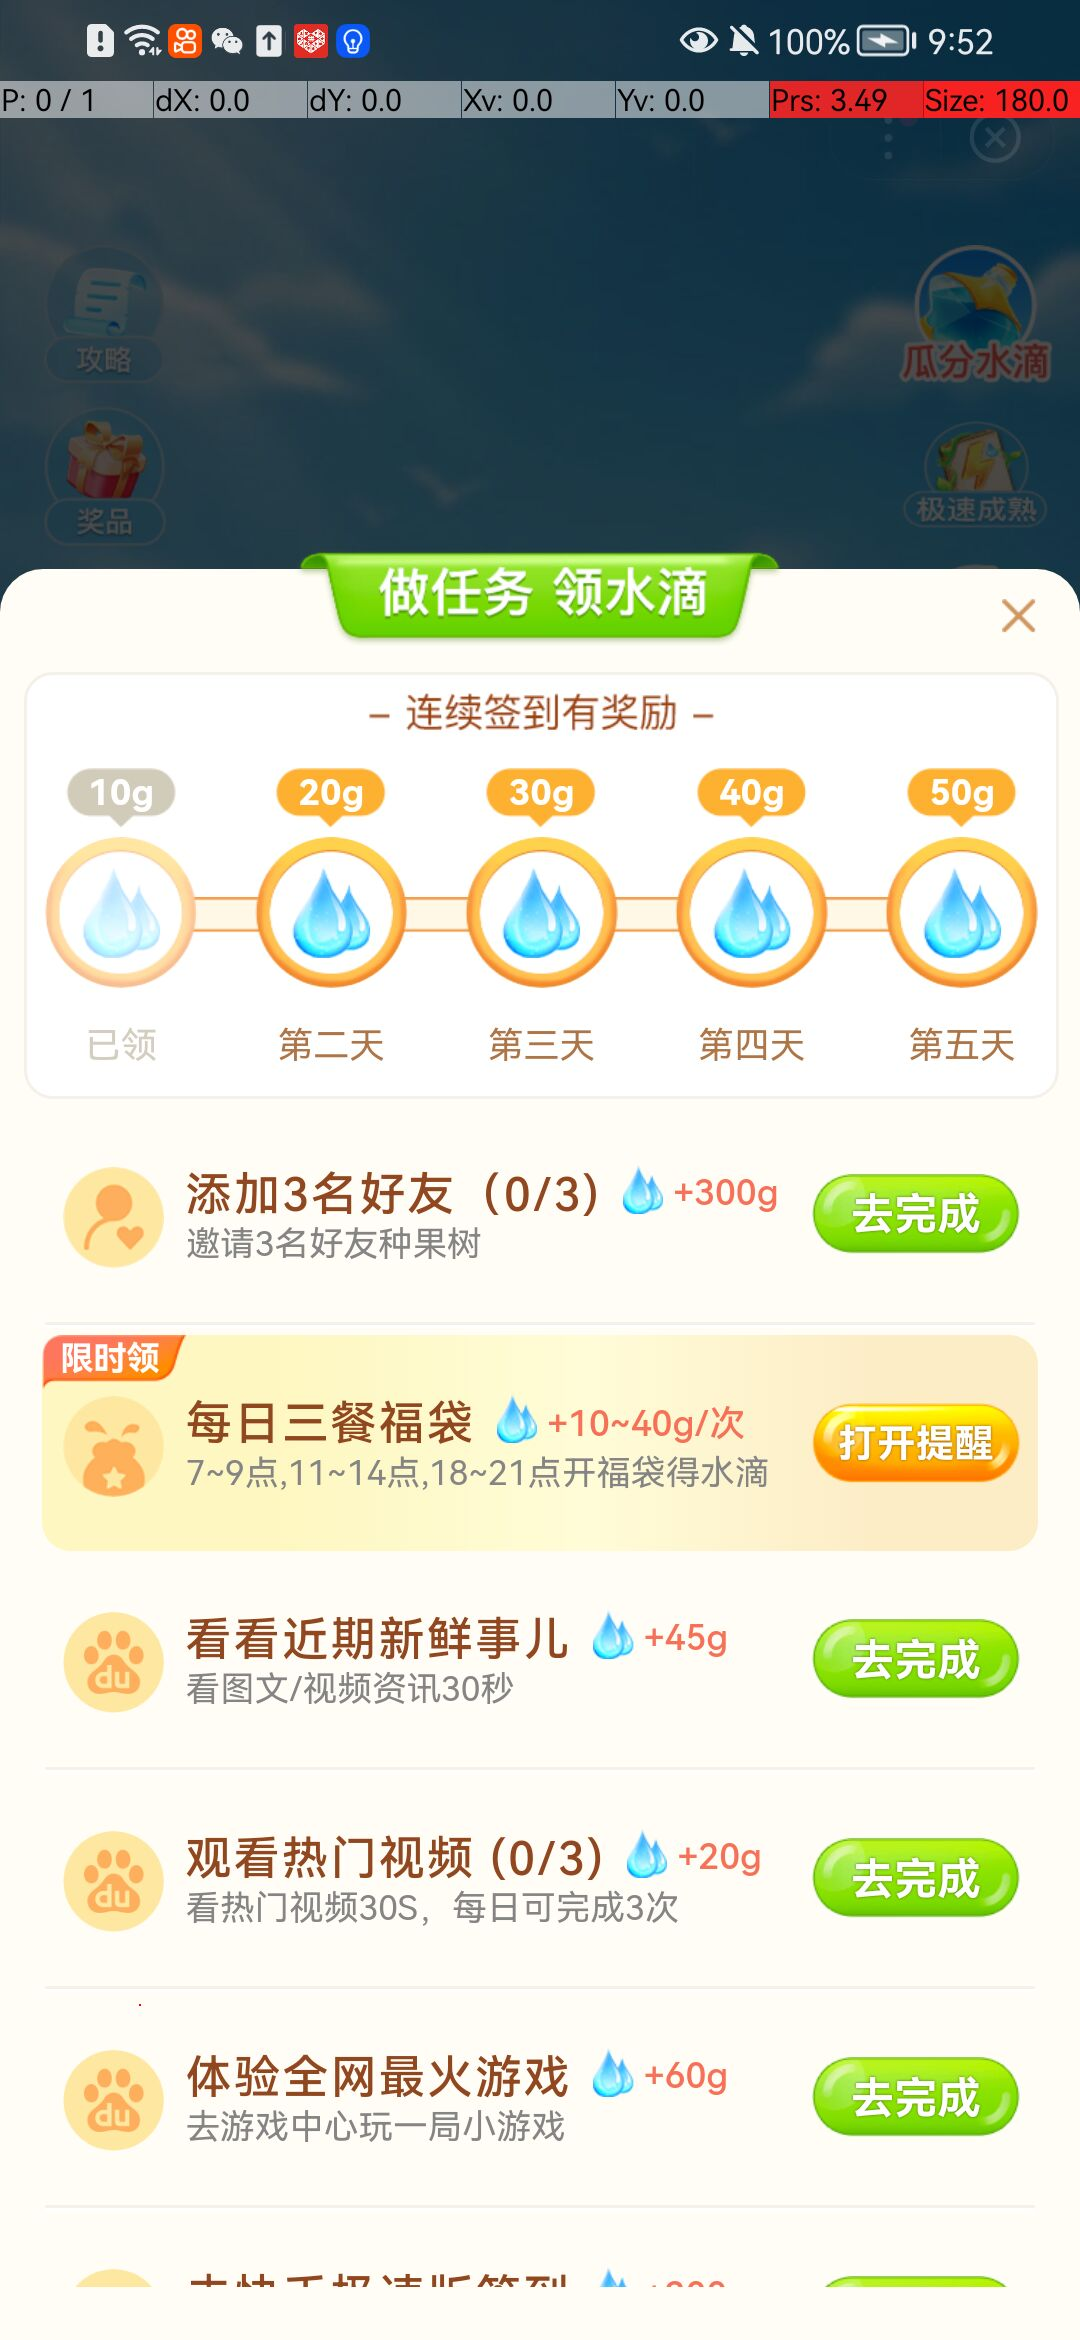popup: (1002, 604, 1046, 639)
